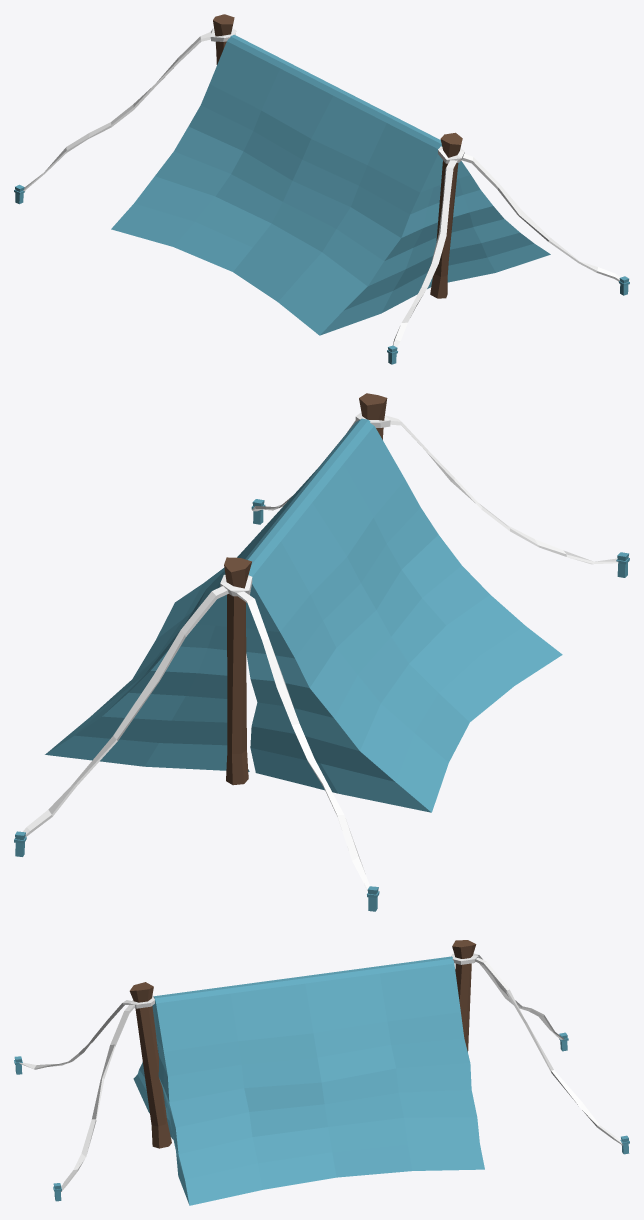
Rendered from Tant_2.fbx.
The picture shows the model from 3 angles, top to bottom: view 1: azimuth 30°, elevation 25°; view 2: azimuth 150°, elevation 25°; view 3: azimuth 270°, elevation 25°; orthographic projection. The views are drawn at different scales.
Parts seen in each view (by area): view 1: M_Tant 2; view 2: M_Tant 2; view 3: M_Tant 2.
Part boxes in pixels (left/top/right/bottom): M_Tant 2: left=14, top=14, right=629, bottom=364; M_Tant 2: left=14, top=393, right=629, bottom=911; M_Tant 2: left=14, top=940, right=629, bottom=1205.
Bounding box in the file's own units: 133 × 66.57 × 207.
1 material, 1 textured.
